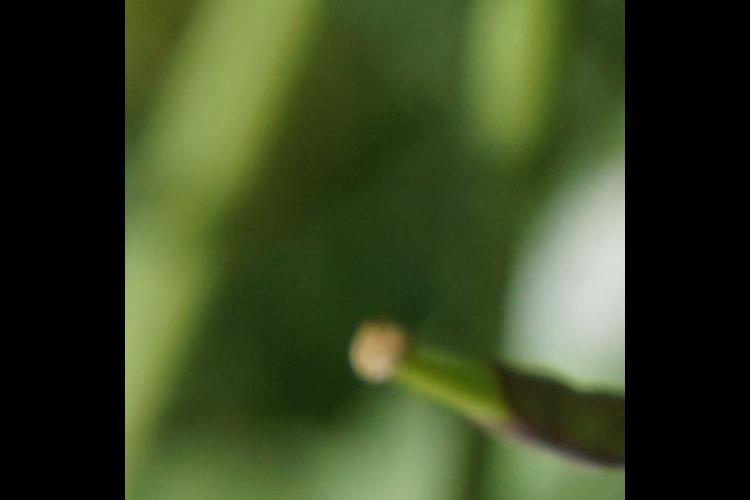pod: (360, 285, 618, 500)
